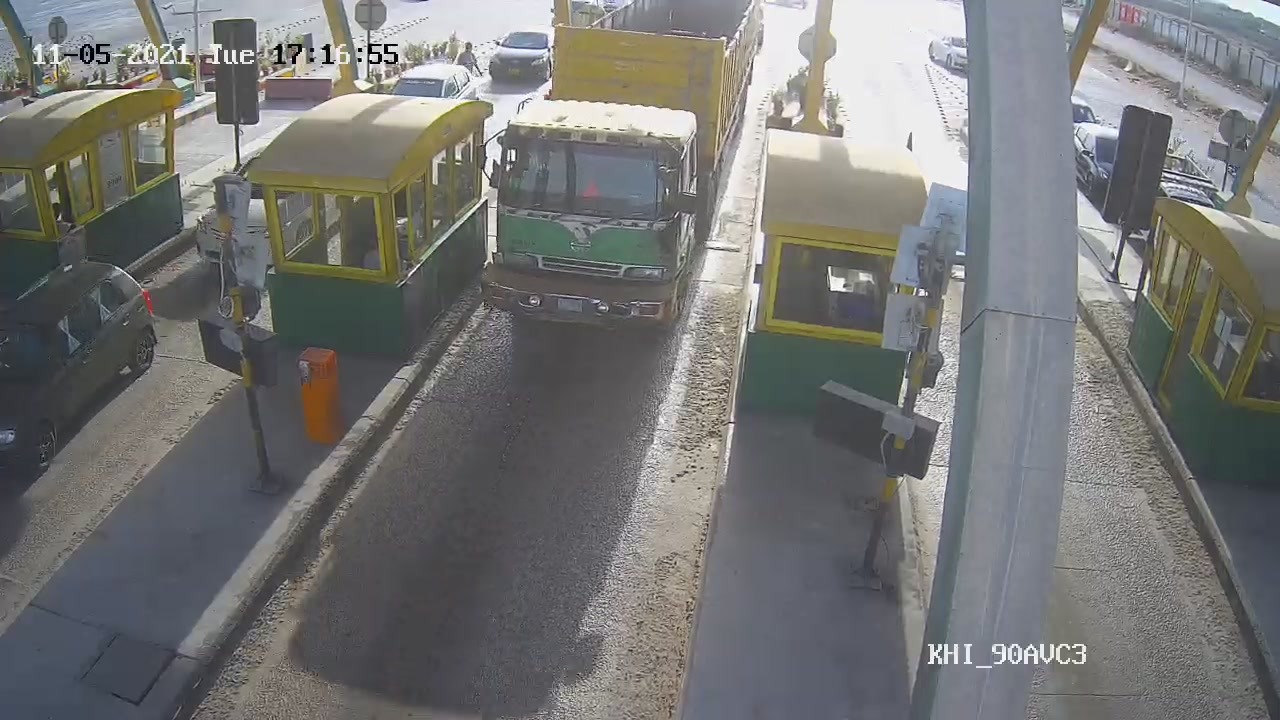F6: (477, 2, 750, 327)
